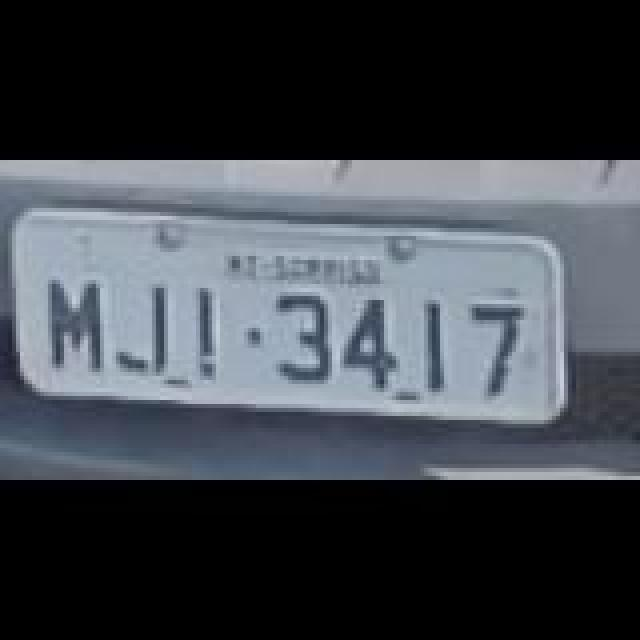1: (192, 286, 224, 378), (418, 302, 446, 394)
3: (272, 294, 336, 386)
4: (344, 298, 400, 390)
7: (468, 304, 532, 400)
J: (110, 284, 170, 372)
M: (44, 276, 108, 372)
